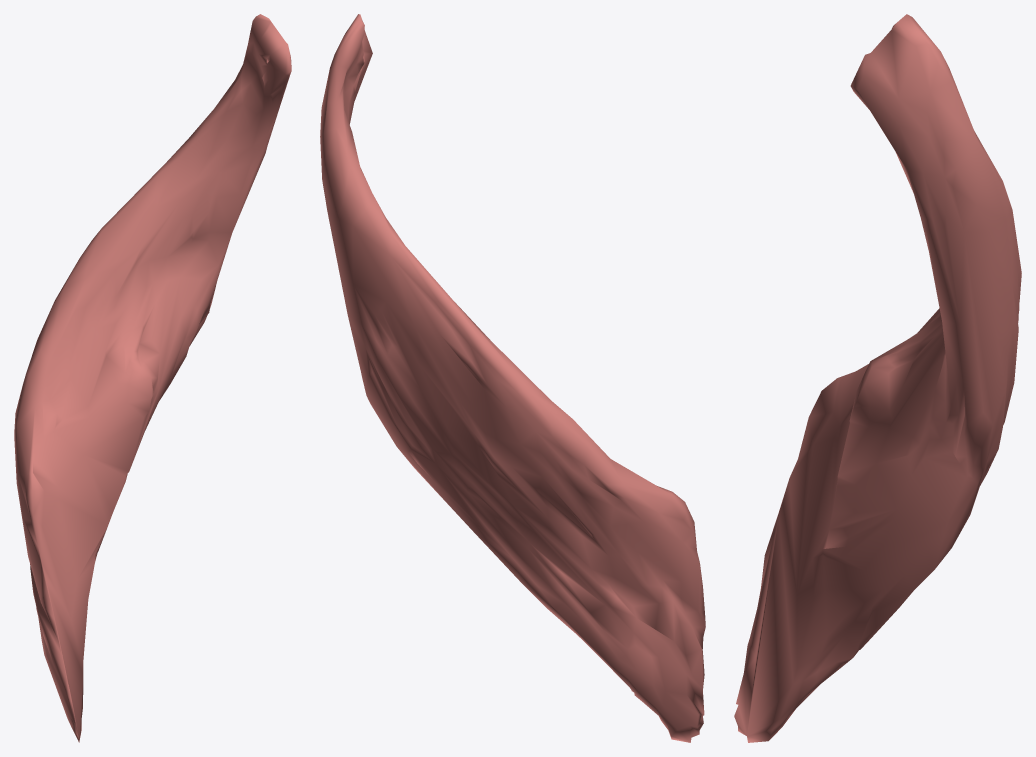
3 renders of one model, left to right at view 1: azimuth 30°, elevation 25°; view 2: azimuth 150°, elevation 25°; view 3: azimuth 270°, elevation 25°, orthographic. The views are drawn at different scales.
Parts seen in each view (by area): view 1: ZA_c5563073511fb2ed; view 2: ZA_c5563073511fb2ed; view 3: ZA_c5563073511fb2ed.
Part boxes in pixels (x1,y1,x2,y2): ZA_c5563073511fb2ed: (14, 14, 291, 742); ZA_c5563073511fb2ed: (320, 14, 705, 742); ZA_c5563073511fb2ed: (734, 14, 1021, 742).
Bounding box in the file's own units: 0.0592 × 0.1251 × 0.0365.
